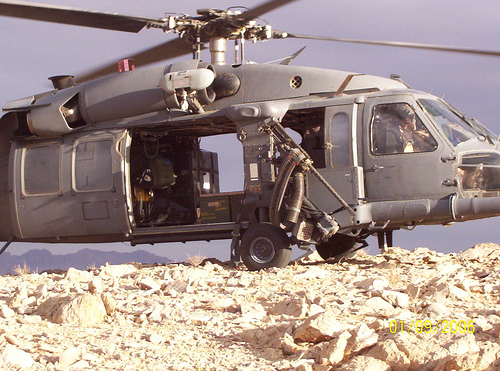rifle: (263, 119, 369, 242)
